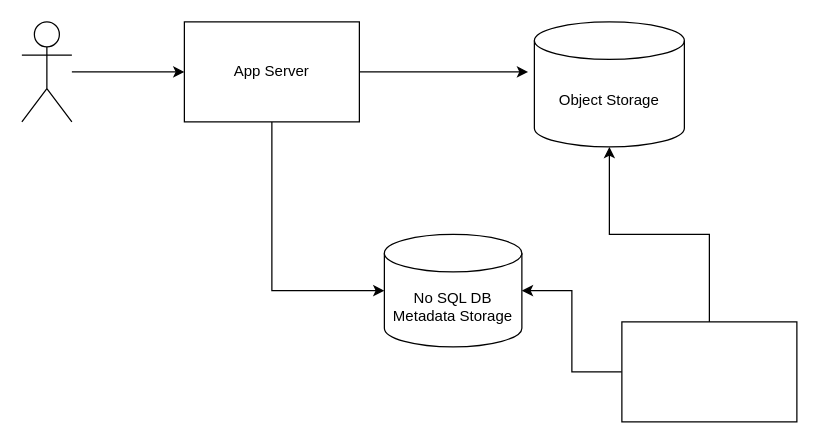
Some shapes in this 819 by 444 pixel diagram are drawn without their labels. Each missing label, with the centre of its shape:
"Actor" belongs at (46,71).
"Garbage Collector" belongs at (709,371).
